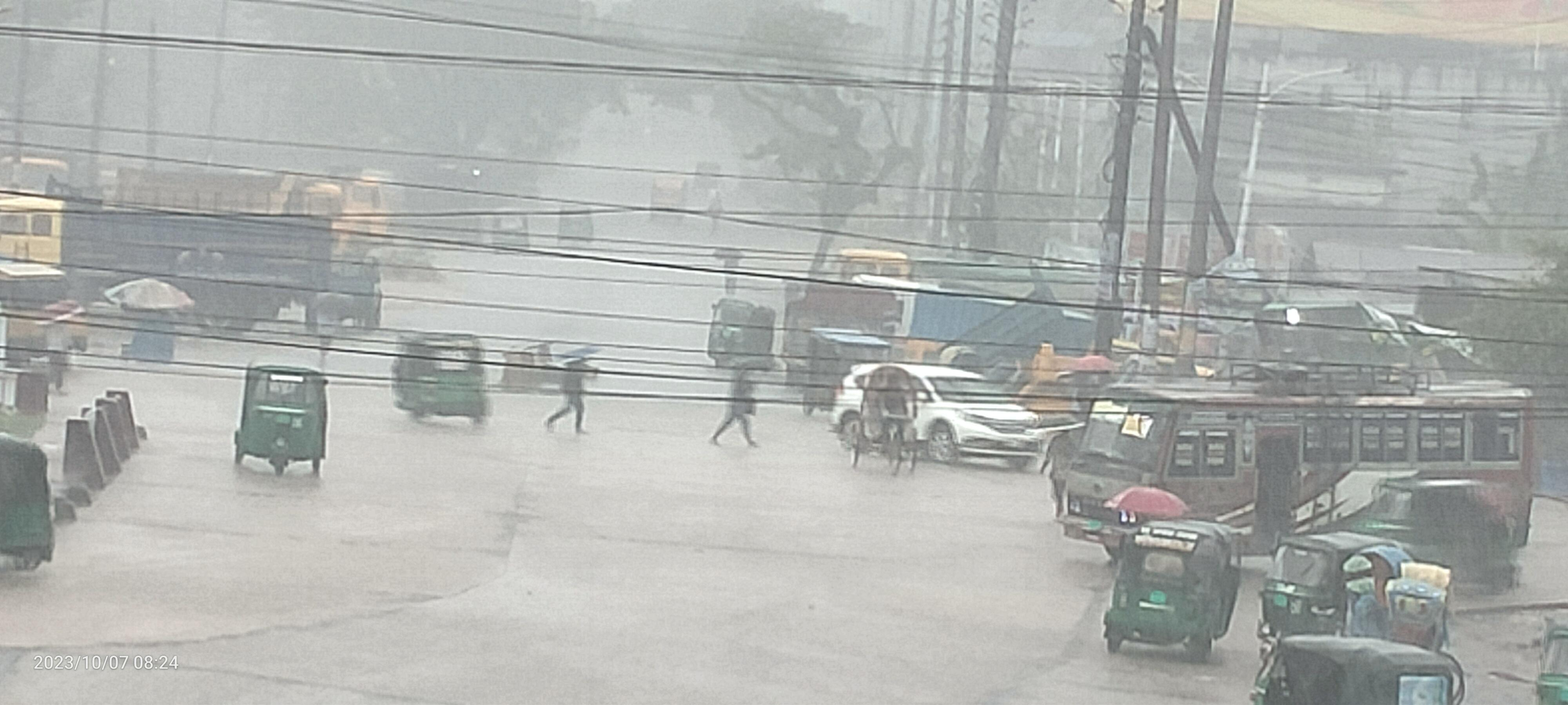Bus: (1038, 334, 1568, 570)
Car: (822, 340, 1062, 484), (848, 357, 930, 489)
Truck: (0, 158, 337, 370), (864, 246, 1124, 370)
